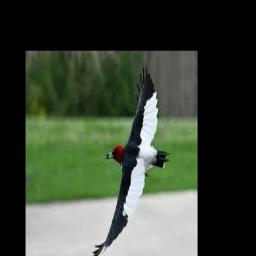Woodpecker: (93, 66, 169, 256)
